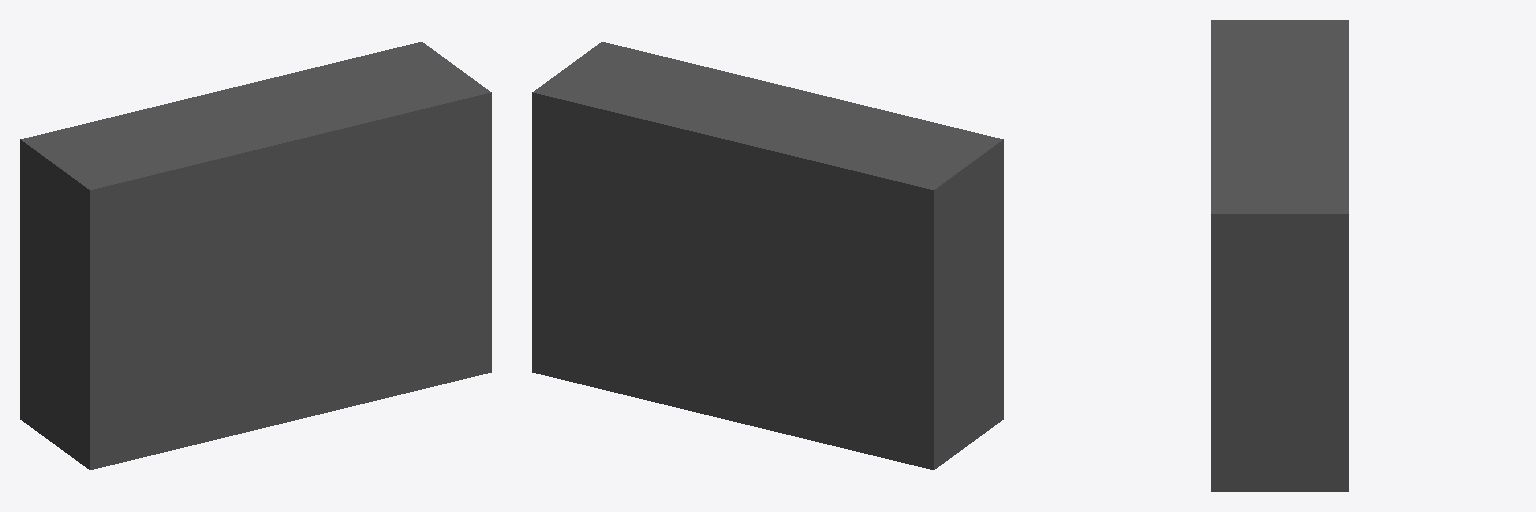
The robot description file, URDF, robot "basket":
<robot name="basket" xmlns:xacro="http://ros.org/wiki/xacro">
  <!-- Init colour -->
  <material name="black">
    <color rgba="0.0 0.0 0.0 1.0"/>
  </material>
  <material name="dark">
    <color rgba="0.3 0.3 0.3 1.0"/>
  </material>
  <material name="light_black">
    <color rgba="0.4 0.4 0.4 1.0"/>
  </material>
  <material name="blue">
    <color rgba="0.0 0.0 0.8 1.0"/>
  </material>
  <material name="green">
    <color rgba="0.0 0.8 0.0 1.0"/>
  </material>
  <material name="grey">
    <color rgba="0.5 0.5 0.5 1.0"/>
  </material>
  <material name="orange">
    <color rgba="1.0 0.423529411765 0.0392156862745 1.0"/>
  </material>
  <material name="brown">
    <color rgba="0.870588235294 0.811764705882 0.764705882353 1.0"/>
  </material>
  <material name="red">
    <color rgba="0.8 0.0 0.0 1.0"/>
  </material>
  <material name="white">
    <color rgba="1.0 1.0 1.0 1.0"/>
  </material>
  
  <link name="basket">
    <visual>
      <origin rpy="0 0 0" xyz="0.0 0.0 0.0"/>
      <geometry>
	<box size="0.030 0.009 0.020"/>
      </geometry>
      <material name="light_black"/>
    </visual>
    <collision>
      <origin rpy="0 0 0" xyz="0 0.0 0"/>
      <geometry>
        <box size="0.030 0.009 0.020"/>
      </geometry>
    </collision>
    <inertial>
      <origin xyz="0 0 0"/>
      <mass value="0.005"/>
      <inertia ixx="0.001" ixy="0.0" ixz="0.0" iyy="0.001" iyz="0.0" izz="0.001"/>
    </inertial>
  
    <!-- <visual> -->
    <!--   <origin rpy="0 0 0" xyz="0.0 0 0.0"/> -->
    <!--   <geometry> -->
    <!-- 	<mesh filename="meshes/bucket.obj" scale=".001 .001 .001"/> -->
    <!--   </geometry> -->
    <!--   <material name="light_black"/> -->
    <!-- </visual> -->
    <!-- <collision> -->
    <!--   <origin rpy="0 0 0" xyz="0 0 0"/> -->
    <!--   <geometry> -->
    <!--     <mesh filename="meshes/bucket.obj" scale="1 1 1"/> -->
    <!--   </geometry> -->
    <!-- </collision> -->
    <!-- <inertial> -->
    <!--   <origin rpy="0 0 0" xyz="0.0 0 0"/> -->
    <!--   <mass value="1.3729096e-00"/> -->
    <!--   <!-\- <mass value="1.3729096e+00"/> -\-> -->
    <!--   <inertia ixx="1.1175580e-05" ixy="-4.2369783e-11" ixz="-5.9381719e-09" iyy="1.1192413e-05" iyz="-1.4400107e-11" izz="2.0712558e-05"/> -->
    <!-- </inertial> -->
  </link>
</robot>

--- Facts derived from the render (not from the file) ---
The picture shows the robot from 3 angles, left to right: view 1: azimuth 30°, elevation 25°; view 2: azimuth 150°, elevation 25°; view 3: azimuth 270°, elevation 25°; orthographic projection.
Model basket with 1 links and 0 joints (none), rooted at basket, posed every joint at zero.
Visible links, largest first — view 1: basket; view 2: basket; view 3: basket.
Boxes of the visible links, x1,y1,x2,y2 form: basket: (20, 42, 491, 469); basket: (532, 42, 1003, 469); basket: (1211, 20, 1348, 491).
Bounding box of the posed robot: 0.03 × 0.009 × 0.02 m (x, y, z).
Geometry: primitives only (box / cylinder / sphere), no mesh files.